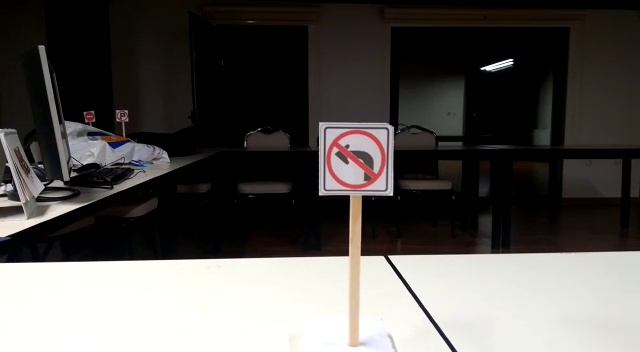sola_donulmez: (316, 121, 388, 194)
